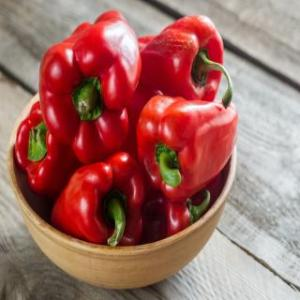bell_pepper: (31, 14, 142, 160), (137, 95, 236, 198), (50, 154, 142, 256), (145, 12, 235, 108)
